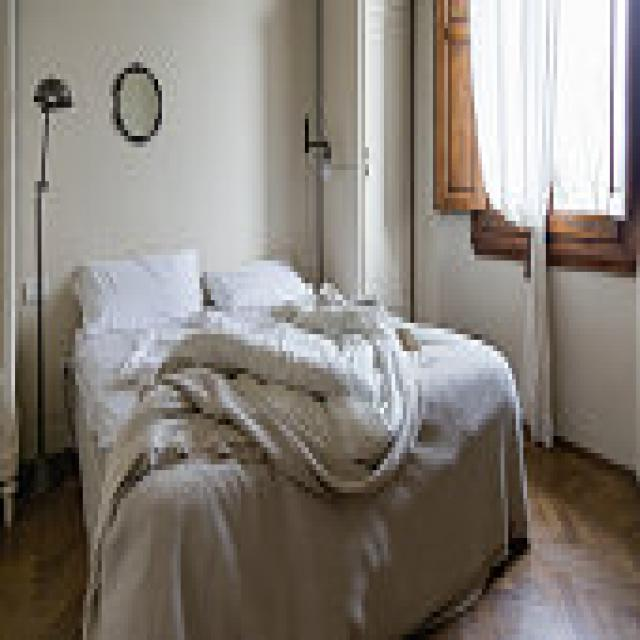bed: (57, 237, 533, 640)
